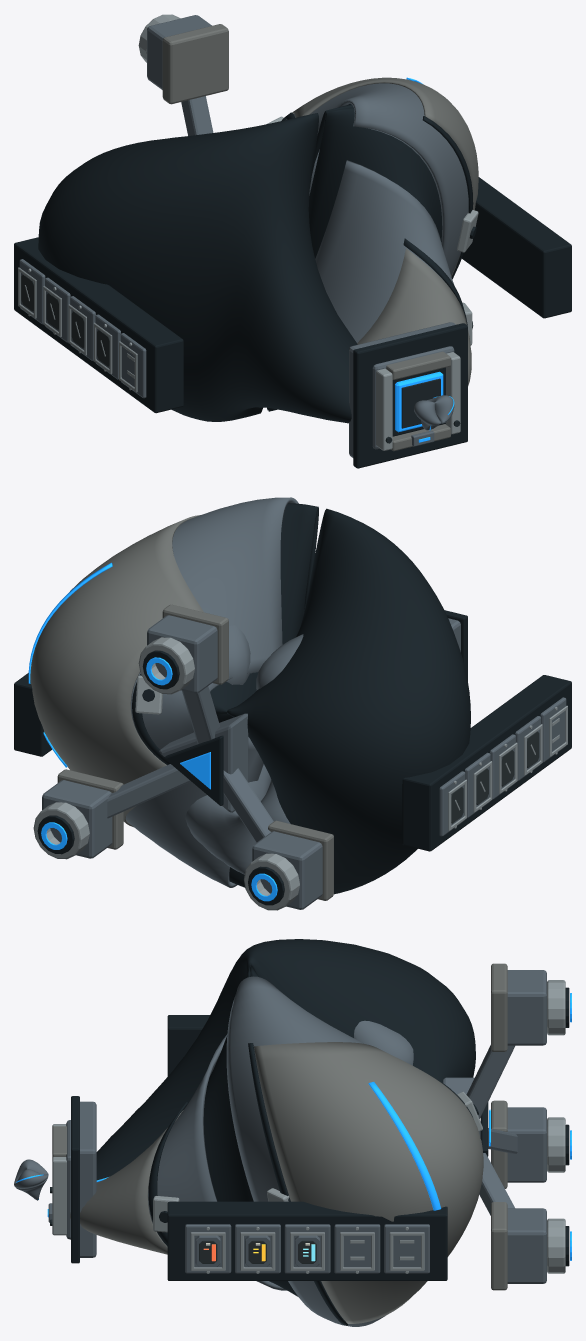
File: BoysSurfaceClonePrism.glb
3 renders of one model, top to bottom at view 1: azimuth 30°, elevation 25°; view 2: azimuth 150°, elevation 25°; view 3: azimuth 270°, elevation 25°, orthographic.
Visible parts, largest first — view 1: Boys_ThreeLobedInterwovenGraphiteCore, Boys_BroadMirrorImmersionSector_2, Boys_ControlPanelIsolator_1, Boys_ControlPanelIsolator_-1, Boys_BroadMirrorImmersionSector_0, Boys_RearDockIsolation, Boys_LayeredMirrorCeramicInset_2, Boys_OpticRearJacket_0, Boys_LayeredMirrorCeramicInset_0, Boys_OpticArmor_0, Dock | fitted side rail -1, Bay 06 | fitted mounting tile (+15 smaller); view 2: Boys_ThreeLobedInterwovenGraphiteCore, Boys_LayeredMirrorCeramicInset_0, Boys_BroadMirrorImmersionSector_0, Boys_ControlPanelIsolator_-1, Boys_ShadowCloneImmersedMirror_2, Boys_OpticArmor_0, Boys_OpticArmor_1, Boys_OpticArmor_2, Boys_RecessedThreeWayOpticalCore, Boys_BondedOpticalConductionArm_2, Boys_ControlPanelIsolator_1, Boys_BondedOpticalConductionArm_1 (+22 smaller); view 3: Boys_LayeredMirrorCeramicInset_0, Boys_ThreeLobedInterwovenGraphiteCore, Boys_BroadMirrorImmersionSector_0, Boys_ControlPanelIsolator_1, Boys_LayeredMirrorCeramicInset_2, Boys_BroadMirrorImmersionSector_2, Boys_OpticArmor_0, Boys_OpticArmor_2, Boys_OpticArmor_1, Boys_RearBondedDockPlate, Bay 04 | fitted mounting tile, Bay 05 | fitted mounting tile (+27 smaller).
Boxes of the visible parts, x1,y1,x2,y2 form: Boys_ThreeLobedInterwovenGraphiteCore: (38,103,442,423); Boys_BroadMirrorImmersionSector_2: (315,160,453,342); Boys_ControlPanelIsolator_1: (462,177,571,318); Boys_ControlPanelIsolator_-1: (14,237,183,413); Boys_BroadMirrorImmersionSector_0: (286,83,468,275); Boys_RearDockIsolation: (353,323,467,468); Boys_LayeredMirrorCeramicInset_2: (357,248,471,385); Boys_OpticRearJacket_0: (162,24,228,104); Boys_LayeredMirrorCeramicInset_0: (292,77,478,276); Boys_OpticArmor_0: (147,15,211,89); Dock | fitted side rail -1: (376,368,392,450); Bay 06 | fitted mounting tile: (120,333,146,398); Boys_ThreeLobedInterwovenGraphiteCore: (210,503,470,894); Boys_LayeredMirrorCeramicInset_0: (30,515,203,827); Boys_BroadMirrorImmersionSector_0: (125,497,298,887); Boys_ControlPanelIsolator_-1: (402,675,571,851); Boys_ShadowCloneImmersedMirror_2: (185,764,290,874); Boys_OpticArmor_0: (147,615,217,693); Boys_OpticArmor_1: (252,831,322,909); Boys_OpticArmor_2: (42,780,112,858); Boys_RecessedThreeWayOpticalCore: (159,713,248,812); Boys_BondedOpticalConductionArm_2: (107,764,190,818); Boys_ControlPanelIsolator_1: (14,673,51,756); Boys_BondedOpticalConductionArm_1: (223,768,273,842); Boys_LayeredMirrorCeramicInset_0: (254,1042,483,1323); Boys_ThreeLobedInterwovenGraphiteCore: (96,939,475,1296); Boys_BroadMirrorImmersionSector_0: (226,976,384,1326); Boys_ControlPanelIsolator_1: (167,1201,447,1280); Boys_LayeredMirrorCeramicInset_2: (70,1110,183,1254); Boys_BroadMirrorImmersionSector_2: (148,1034,286,1290); Boys_OpticArmor_0: (507,970,546,1045); Boys_OpticArmor_2: (507,1208,546,1283); Boys_OpticArmor_1: (507,1107,546,1182); Boys_RearBondedDockPlate: (80,1101,96,1257); Bay 04 | fitted mounting tile: (334,1224,380,1273); Bay 05 | fitted mounting tile: (384,1224,429,1273).
Size of the model in its own units: 0.2683 by 0.2057 by 0.3029.
